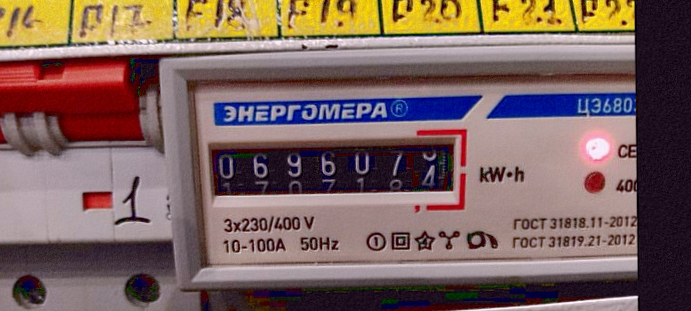0: (353, 147, 371, 177), (218, 152, 235, 180)
4: (420, 161, 438, 190)
6: (320, 148, 337, 177), (252, 151, 269, 179)
7: (387, 147, 406, 178)
9: (285, 150, 303, 179)
screen: (196, 126, 474, 213)
